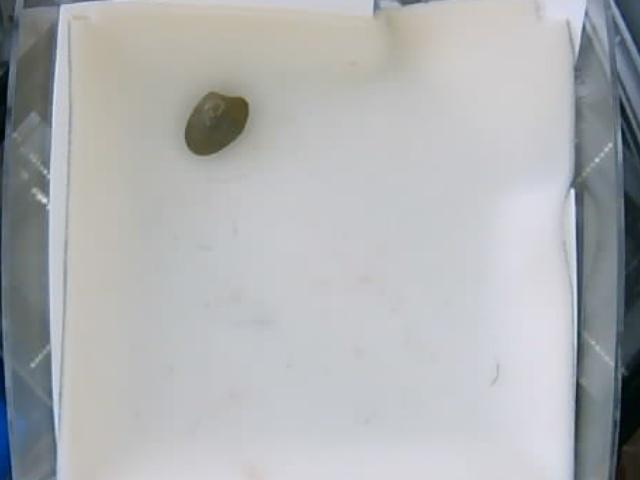Pebble: (188, 94, 248, 154)
